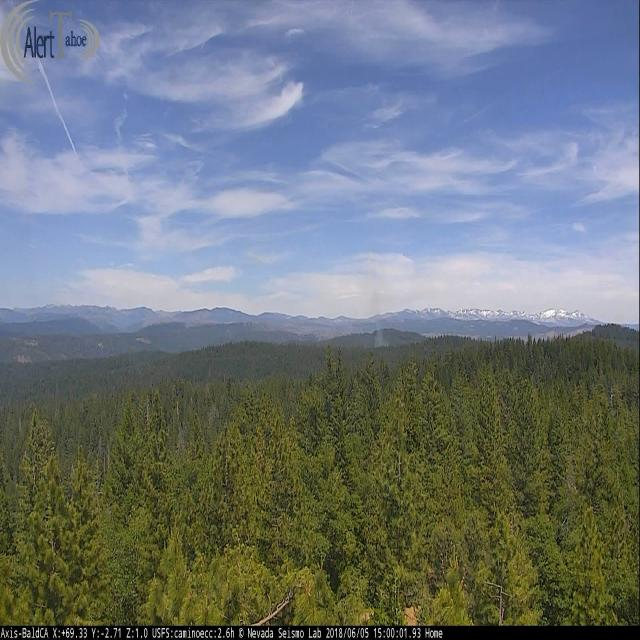smoke: (374, 319, 393, 348)
